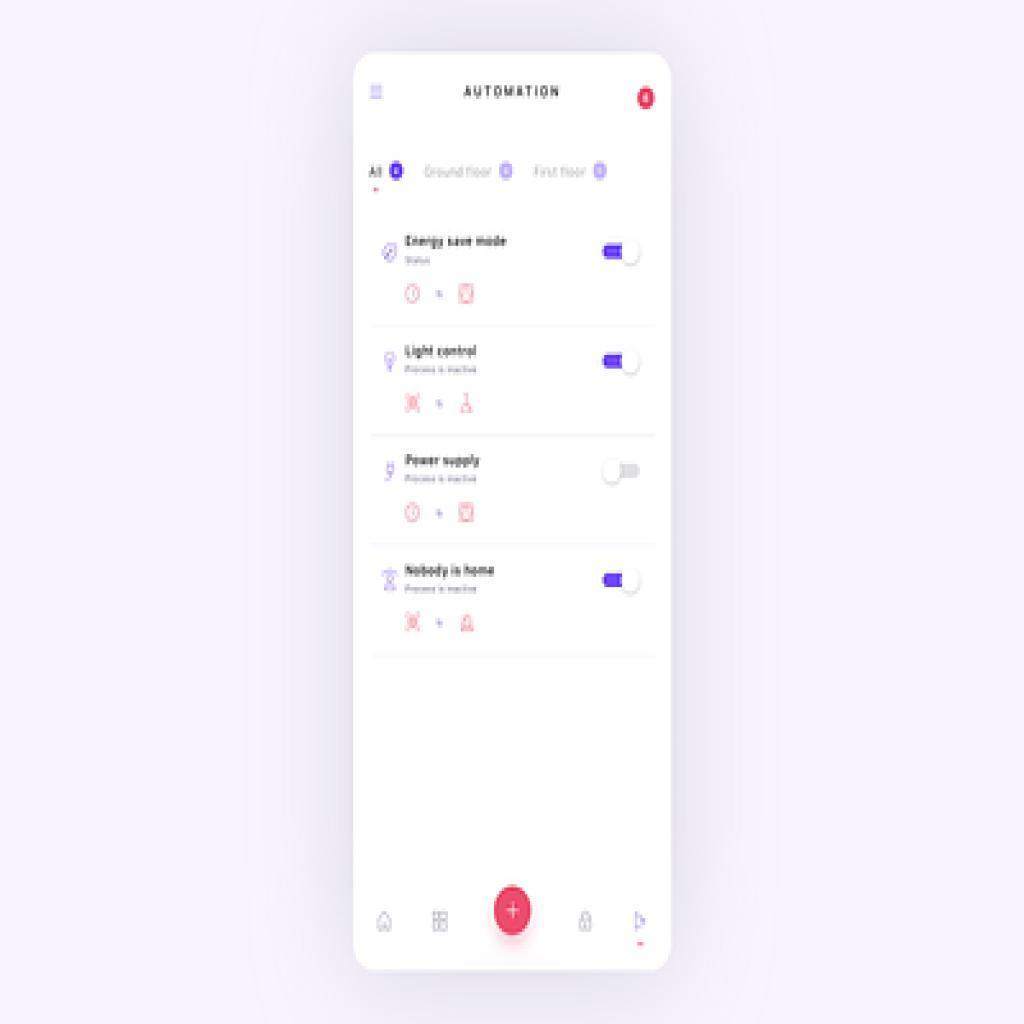icon: (424, 906, 459, 943), (370, 906, 398, 942), (364, 77, 390, 111), (574, 910, 601, 941), (629, 904, 648, 938)
switch: (598, 450, 646, 493), (596, 563, 646, 599), (592, 238, 641, 267), (598, 349, 641, 381)
